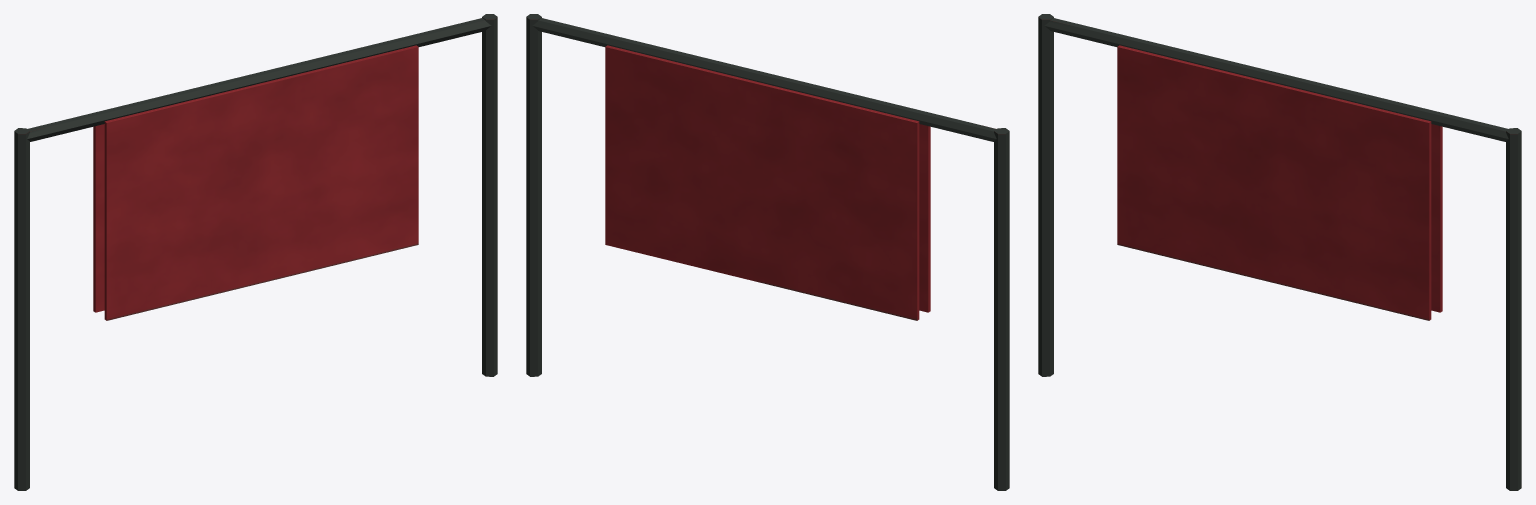
The model's file is klepac_7ee4f811.glb.
The picture shows the model from 3 angles, left to right: view 1: azimuth 30°, elevation 25°; view 2: azimuth 150°, elevation 25°; view 3: azimuth 330°, elevation 25°; orthographic projection.
Visible parts, largest first — view 1: dum; view 2: dum; view 3: dum.
Part boxes in pixels (bbox=[...]): dum: bbox=[14, 14, 497, 490]; dum: bbox=[526, 14, 1009, 490]; dum: bbox=[1038, 14, 1521, 490].
Size of the model in its own units: 2.45 by 1.75 by 0.1197.
Materials: 1 (1 with a texture image).
